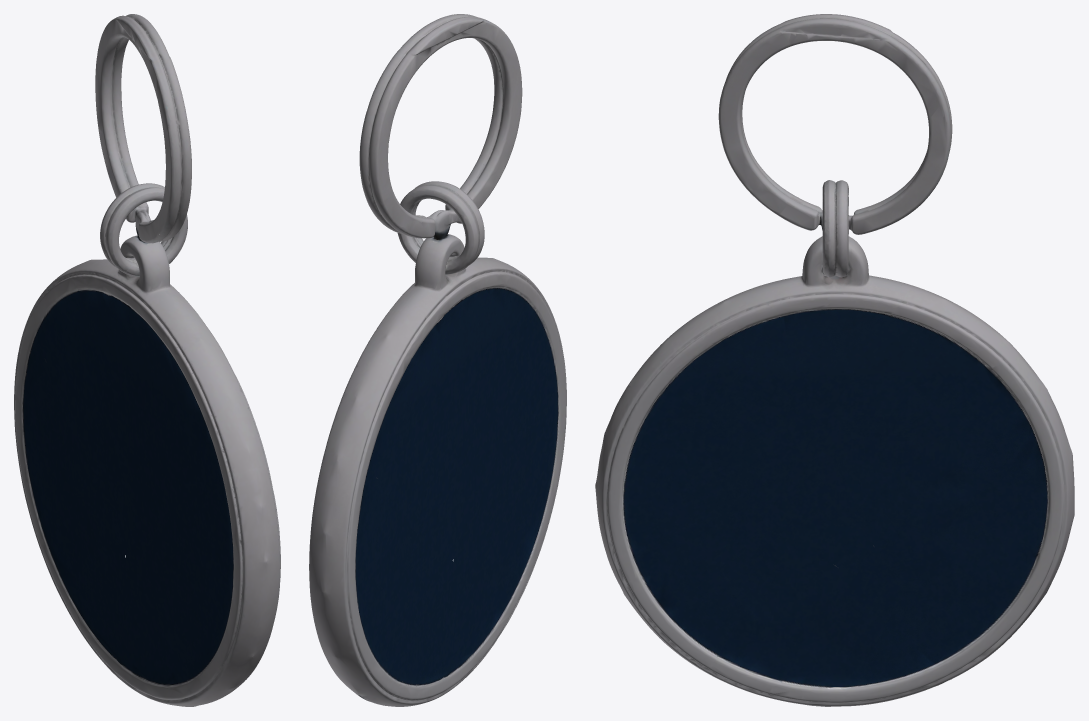
The model's file is LLAVERO.glb.
3 renders of one model, left to right at view 1: azimuth 30°, elevation 25°; view 2: azimuth 150°, elevation 25°; view 3: azimuth 270°, elevation 25°, orthographic. The views are drawn at different scales.
Parts seen in each view (by area): view 1: tripo_node_c117e93f-7cbe-42a1-94c2-e99e2621dc37; view 2: tripo_node_c117e93f-7cbe-42a1-94c2-e99e2621dc37; view 3: tripo_node_c117e93f-7cbe-42a1-94c2-e99e2621dc37.
Part boxes in pixels (x1,y1,x2,y2): tripo_node_c117e93f-7cbe-42a1-94c2-e99e2621dc37: [14, 14, 280, 706]; tripo_node_c117e93f-7cbe-42a1-94c2-e99e2621dc37: [309, 14, 566, 706]; tripo_node_c117e93f-7cbe-42a1-94c2-e99e2621dc37: [595, 14, 1074, 706].
Bounding box in the file's own units: 0.1242 × 0.9795 × 0.6225.
Materials: 1 (1 with a texture image).
